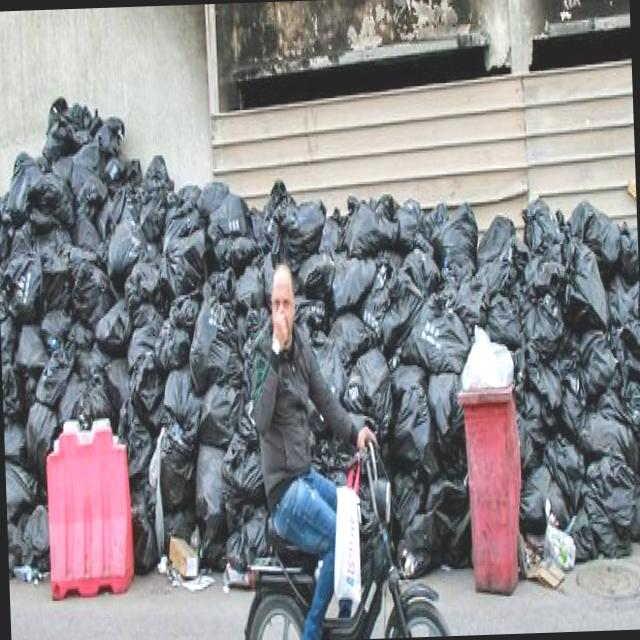garbage: (0, 180, 254, 597)
